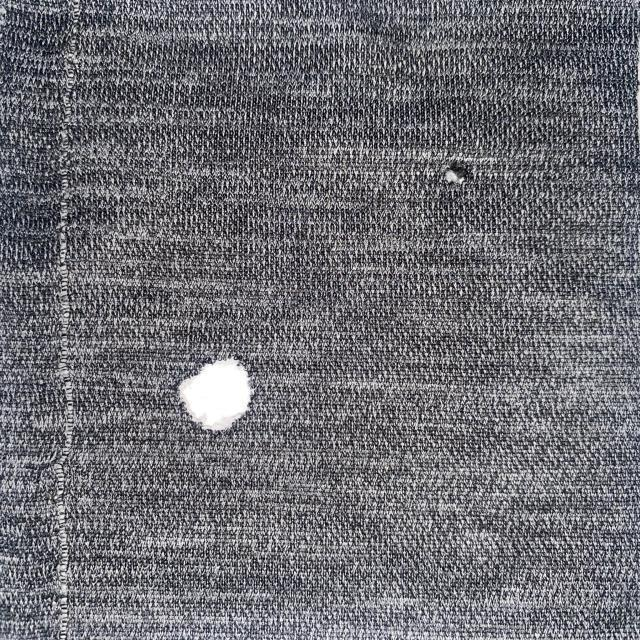Hole: (175, 352, 259, 435)
Knot: (438, 157, 477, 189)
Line: (47, 0, 83, 640)
